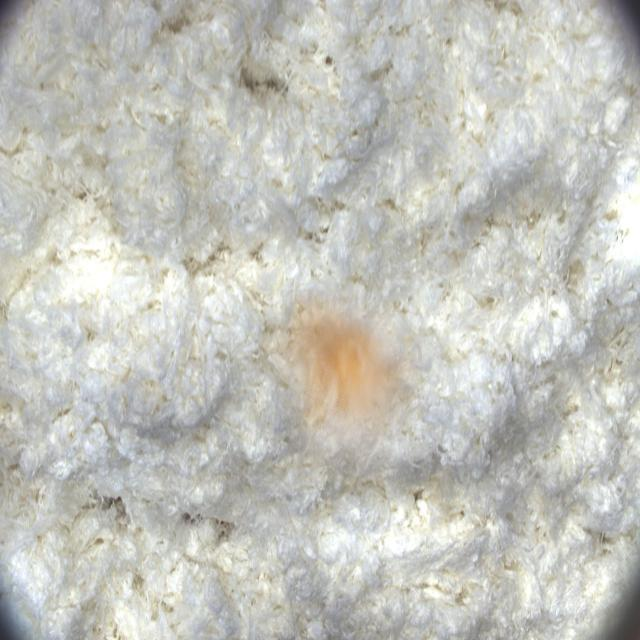dust: (262, 289, 422, 492)
